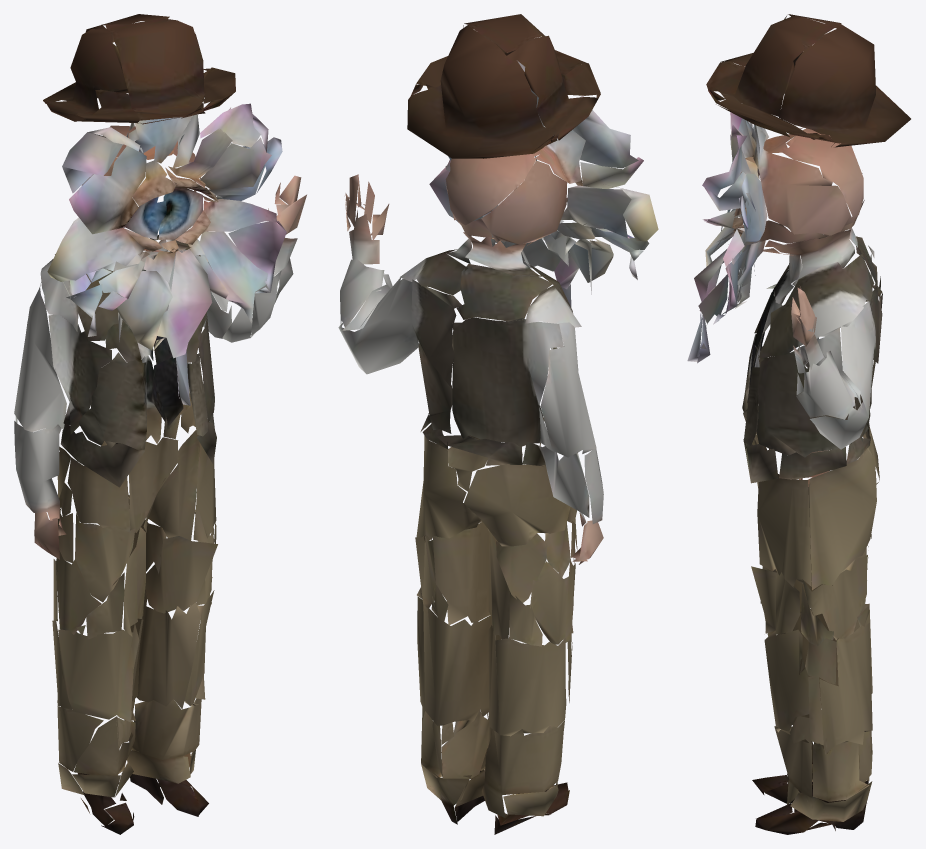
File: crowd_annieh_full.glb
The picture shows the model from 3 angles, left to right: view 1: azimuth 30°, elevation 25°; view 2: azimuth 150°, elevation 25°; view 3: azimuth 270°, elevation 25°; orthographic projection.
Parts seen in each view (by area): view 1: tripo_node_1126258b-1cb4-43a4-b5b0-aa4036e8409b; view 2: tripo_node_1126258b-1cb4-43a4-b5b0-aa4036e8409b; view 3: tripo_node_1126258b-1cb4-43a4-b5b0-aa4036e8409b.
Part boxes in pixels (box(x1,y1,x2,y2)): tripo_node_1126258b-1cb4-43a4-b5b0-aa4036e8409b: box(14, 14, 306, 834); tripo_node_1126258b-1cb4-43a4-b5b0-aa4036e8409b: box(338, 14, 658, 834); tripo_node_1126258b-1cb4-43a4-b5b0-aa4036e8409b: box(687, 14, 910, 834).
Bounding box in the file's own units: 0.3836 × 1 × 0.2576.
Materials: 1 (1 with a texture image).
